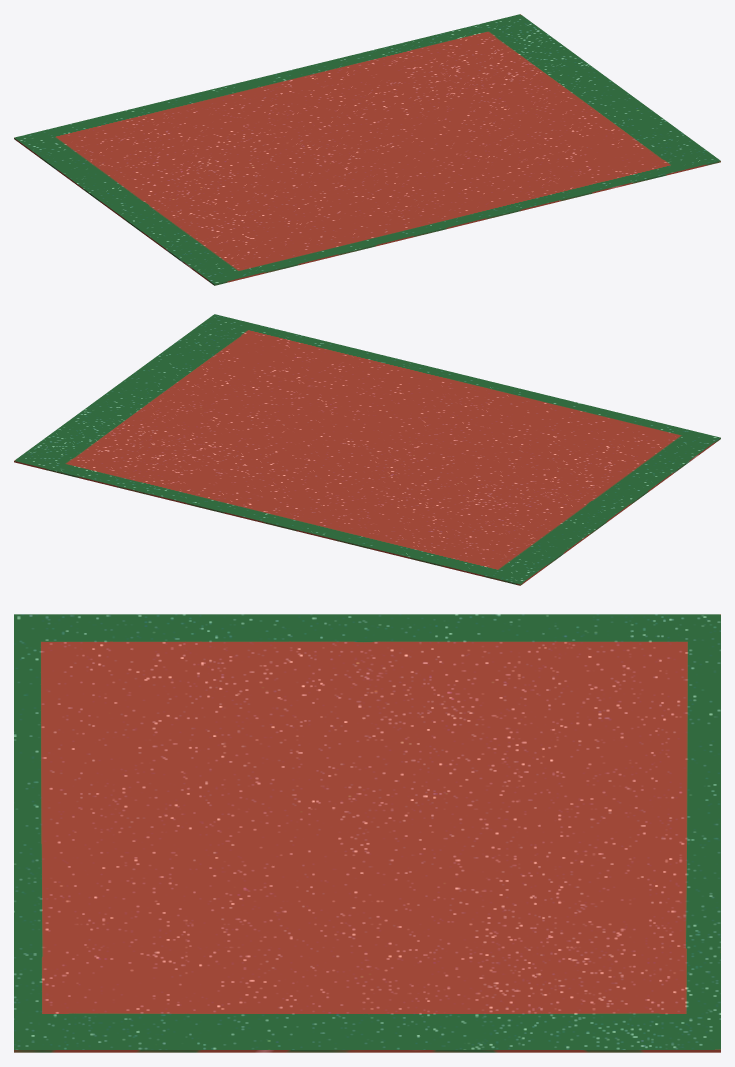
File: Tennis Block_root.fbx
The picture shows the model from 3 angles, top to bottom: view 1: azimuth 30°, elevation 25°; view 2: azimuth 150°, elevation 25°; view 3: azimuth 270°, elevation 25°; orthographic projection. The views are drawn at different scales.
Visible parts, largest first — view 1: Tennis_Block1__1__sh_1, Tennis_Block1__1__sh_3, Tennis_Block1__1__sh_6, Tennis_Block1__1__sh_7, Tennis_Block1__1__sh_38, Tennis_Block1__1__sh_41, Tennis_Block1__1__sh_46, Tennis_Block1__1__sh_73, Tennis_Block1__1__sh_74, Tennis_Block1__1__sh_79, Tennis_Block1__1__sh_80, Tennis_Block1__1__sh_8 (+84 smaller); view 2: Tennis_Block1__1__sh_3, Tennis_Block1__1__sh_5, Tennis_Block1__1__sh_6, Tennis_Block1__1__sh_11, Tennis_Block1__1__sh_2, Tennis_Block1__1__sh_4, Tennis_Block1__1__sh_10, Tennis_Block1__1__sh_1, Tennis_Block1__1__sh_8, Tennis_Block1__1__sh_9, Tennis_Block1__1__sh_7, Tennis_Block1__1__sh_31 (+84 smaller); view 3: Tennis_Block1__1__sh_1, Tennis_Block1__1__sh_13, Tennis_Block1__1__sh_25, Tennis_Block1__1__sh_37, Tennis_Block1__1__sh_49, Tennis_Block1__1__sh_61, Tennis_Block1__1__sh_73, Tennis_Block1__1__sh_14, Tennis_Block1__1__sh_18, Tennis_Block1__1__sh_22, Tennis_Block1__1__sh_62, Tennis_Block1__1__sh_66 (+84 smaller).
Boxes of the visible parts, bbox=[...] form: Tennis_Block1__1__sh_1: bbox=[477, 14, 545, 43]; Tennis_Block1__1__sh_3: bbox=[389, 35, 457, 64]; Tennis_Block1__1__sh_6: bbox=[257, 67, 325, 96]; Tennis_Block1__1__sh_7: bbox=[214, 78, 282, 107]; Tennis_Block1__1__sh_38: bbox=[509, 80, 577, 109]; Tennis_Block1__1__sh_41: bbox=[377, 112, 445, 141]; Tennis_Block1__1__sh_46: bbox=[158, 166, 226, 195]; Tennis_Block1__1__sh_73: bbox=[629, 125, 697, 154]; Tennis_Block1__1__sh_74: bbox=[585, 136, 653, 165]; Tennis_Block1__1__sh_79: bbox=[365, 189, 433, 218]; Tennis_Block1__1__sh_80: bbox=[322, 200, 390, 229]; Tennis_Block1__1__sh_8: bbox=[170, 89, 238, 117]; Tennis_Block1__1__sh_3: bbox=[101, 464, 170, 494]; Tennis_Block1__1__sh_5: bbox=[189, 485, 258, 515]; Tennis_Block1__1__sh_6: bbox=[233, 496, 302, 526]; Tennis_Block1__1__sh_11: bbox=[452, 549, 521, 579]; Tennis_Block1__1__sh_2: bbox=[58, 453, 126, 483]; Tennis_Block1__1__sh_4: bbox=[145, 474, 214, 504]; Tennis_Block1__1__sh_10: bbox=[409, 538, 477, 569]; Tennis_Block1__1__sh_1: bbox=[14, 442, 82, 472]; Tennis_Block1__1__sh_8: bbox=[321, 517, 389, 547]; Tennis_Block1__1__sh_9: bbox=[365, 528, 433, 558]; Tennis_Block1__1__sh_7: bbox=[277, 506, 345, 536]; Tennis_Block1__1__sh_31: bbox=[328, 469, 396, 498]; Tennis_Block1__1__sh_1: bbox=[631, 1012, 720, 1052]; Tennis_Block1__1__sh_13: bbox=[542, 1012, 631, 1052]; Tennis_Block1__1__sh_25: bbox=[453, 1012, 542, 1052]; Tennis_Block1__1__sh_37: bbox=[363, 1012, 452, 1052]; Tennis_Block1__1__sh_49: bbox=[274, 1012, 363, 1052]; Tennis_Block1__1__sh_61: bbox=[185, 1012, 274, 1052]; Tennis_Block1__1__sh_73: bbox=[96, 1012, 185, 1052]; Tennis_Block1__1__sh_14: bbox=[542, 974, 631, 1012]; Tennis_Block1__1__sh_18: bbox=[542, 823, 631, 861]; Tennis_Block1__1__sh_22: bbox=[542, 672, 631, 710]; Tennis_Block1__1__sh_62: bbox=[185, 974, 274, 1012]; Tennis_Block1__1__sh_66: bbox=[185, 823, 274, 861].
Bounding box in the file's own units: 3002 × 8.17 × 2058.
Materials: 1 (1 with a texture image).
